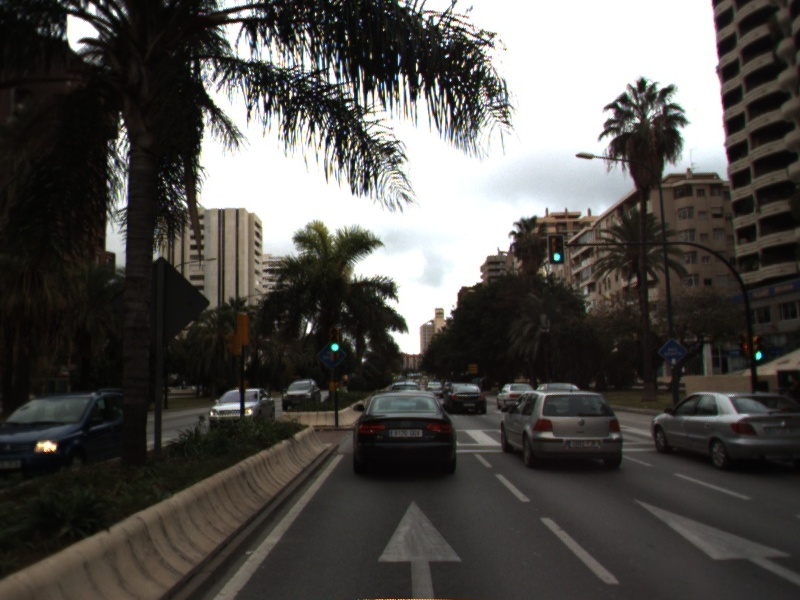STRAIGHT: (630, 495, 800, 584), (374, 496, 468, 600)
